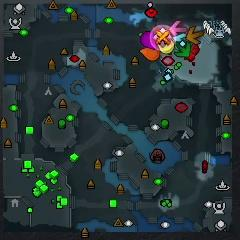Other: (153, 26, 172, 48)
p3: (140, 32, 157, 50)
p4: (159, 40, 174, 53)
p5: (139, 47, 160, 61)
x1: (169, 20, 187, 35)
x3: (173, 32, 186, 42)
x4: (176, 42, 191, 57)
x5: (186, 26, 204, 44)
